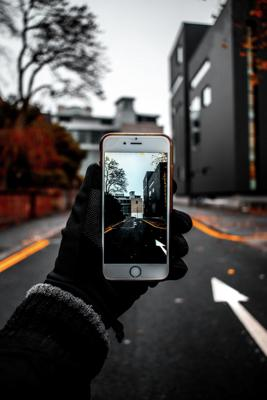cell-phone: (100, 132, 171, 283)
